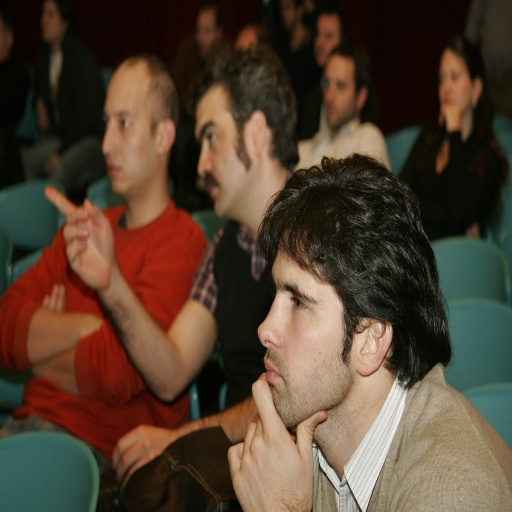hand: (212, 375, 320, 508), (43, 182, 114, 293), (110, 421, 176, 492), (39, 281, 66, 313)
